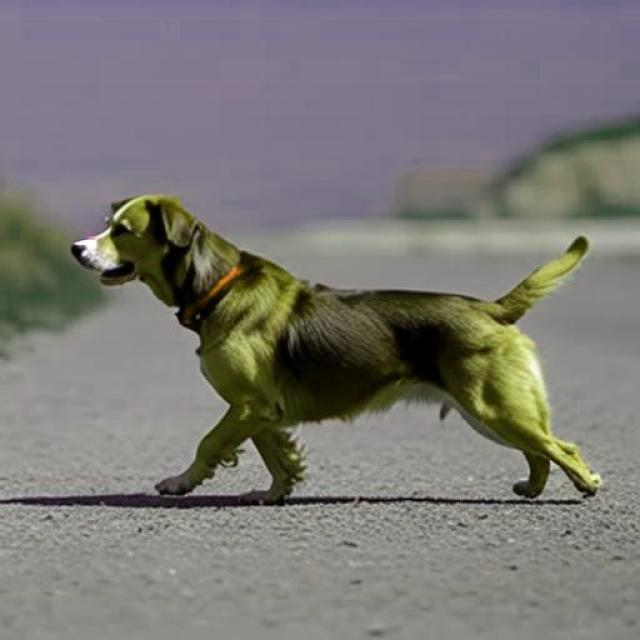Dog: (70, 194, 602, 506)
